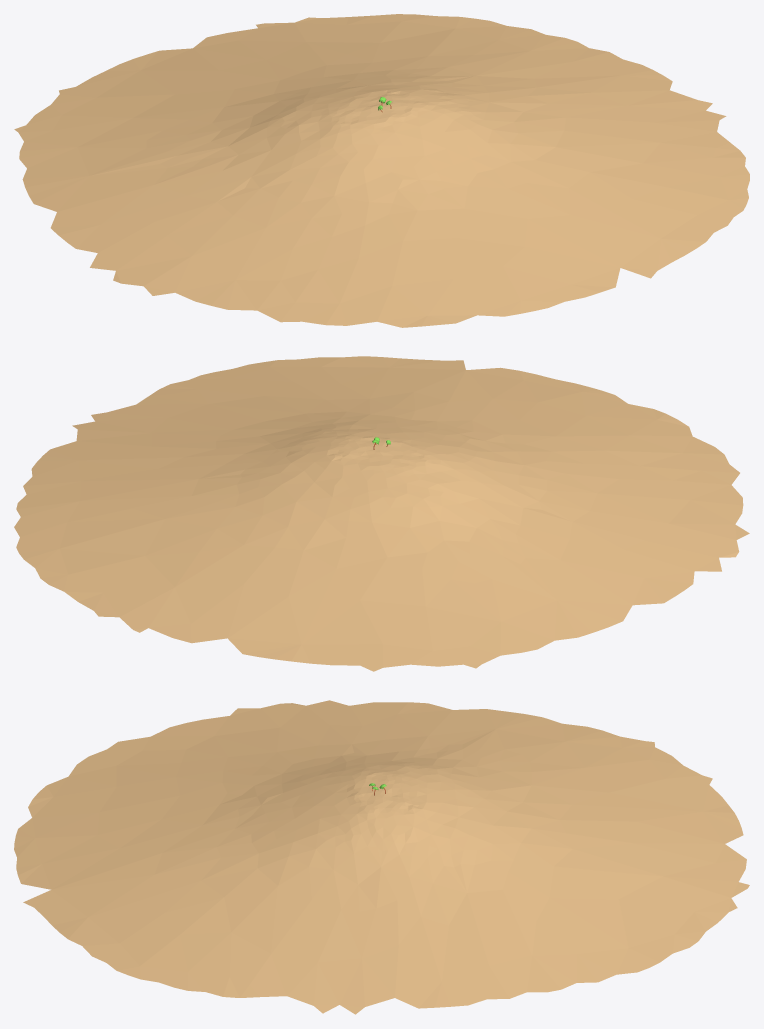
Rendered from island.fbx.
3 views of the same model, one above another, from view 1: azimuth 30°, elevation 25°; view 2: azimuth 150°, elevation 25°; view 3: azimuth 270°, elevation 25° (orthographic).
Parts seen in each view (by area): view 1: island; view 2: island; view 3: island.
Part boxes in pixels (x1=…): island: x1=14, y1=14, x2=749, y2=327; island: x1=14, y1=356, x2=749, y2=671; island: x1=14, y1=700, x2=749, y2=1014.
Size of the model in its own units: 22879 by 2516 by 22646.
